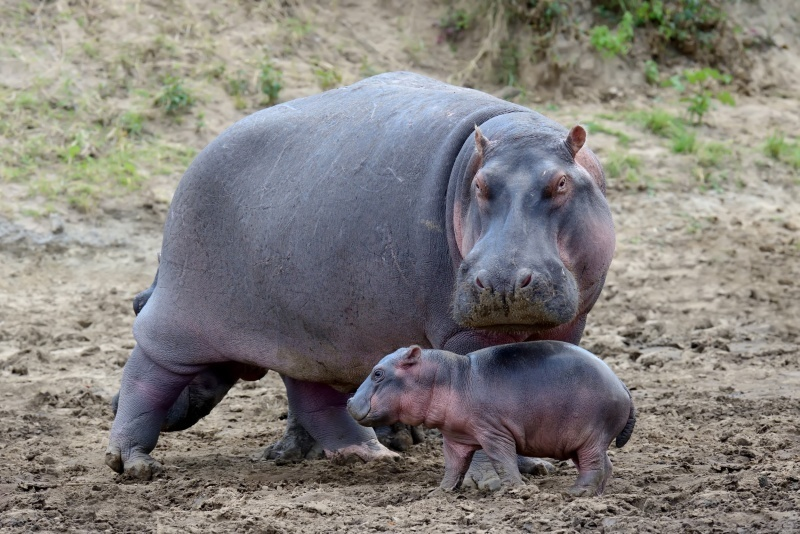hipopotamo: (112, 74, 624, 477), (342, 338, 638, 504)
